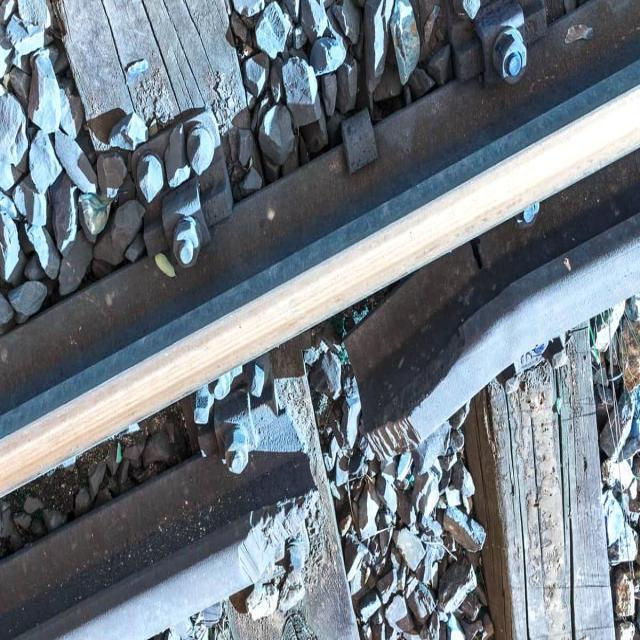broken_rail_high: (243, 345, 426, 597)
